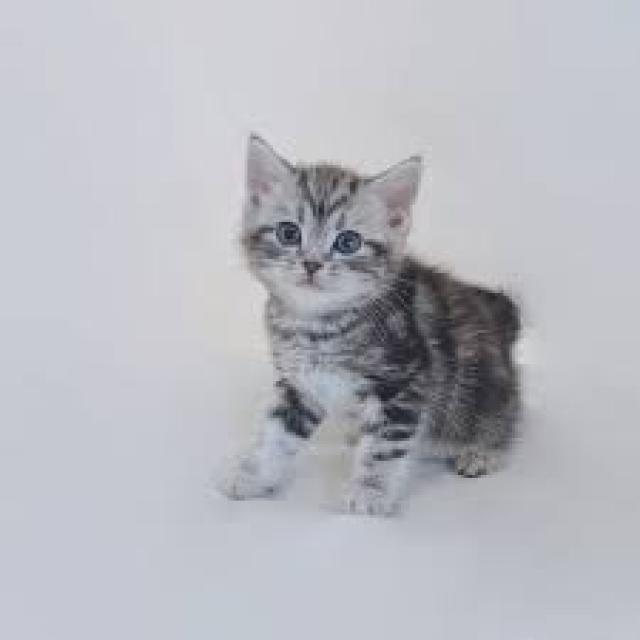cat-face: (197, 103, 472, 365)
